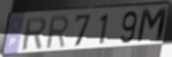1: (98, 12, 112, 46)
7: (73, 13, 94, 48)
9: (119, 10, 139, 44)
M: (134, 6, 169, 46)
R: (21, 16, 47, 52), (45, 13, 70, 50)
